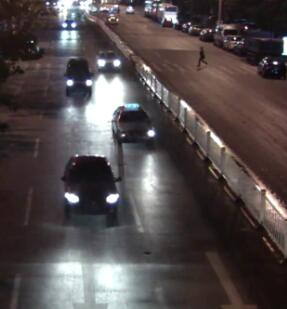bus: (154, 2, 178, 25)
car: (60, 152, 123, 224), (109, 101, 159, 147), (61, 54, 96, 98), (92, 48, 122, 74), (253, 53, 283, 74), (213, 23, 233, 45), (222, 33, 245, 49), (57, 16, 78, 32)
